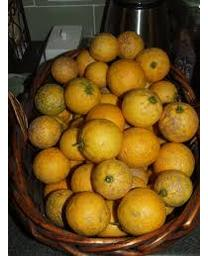lemon: (118, 188, 166, 234), (63, 190, 110, 234), (76, 120, 123, 161), (92, 159, 134, 200), (158, 100, 197, 143), (121, 87, 164, 126), (121, 129, 161, 166), (65, 77, 101, 114), (108, 59, 145, 94), (27, 116, 64, 150), (32, 81, 69, 115), (157, 170, 191, 204), (33, 149, 68, 181), (138, 46, 168, 82), (89, 31, 119, 62), (49, 56, 80, 84)
